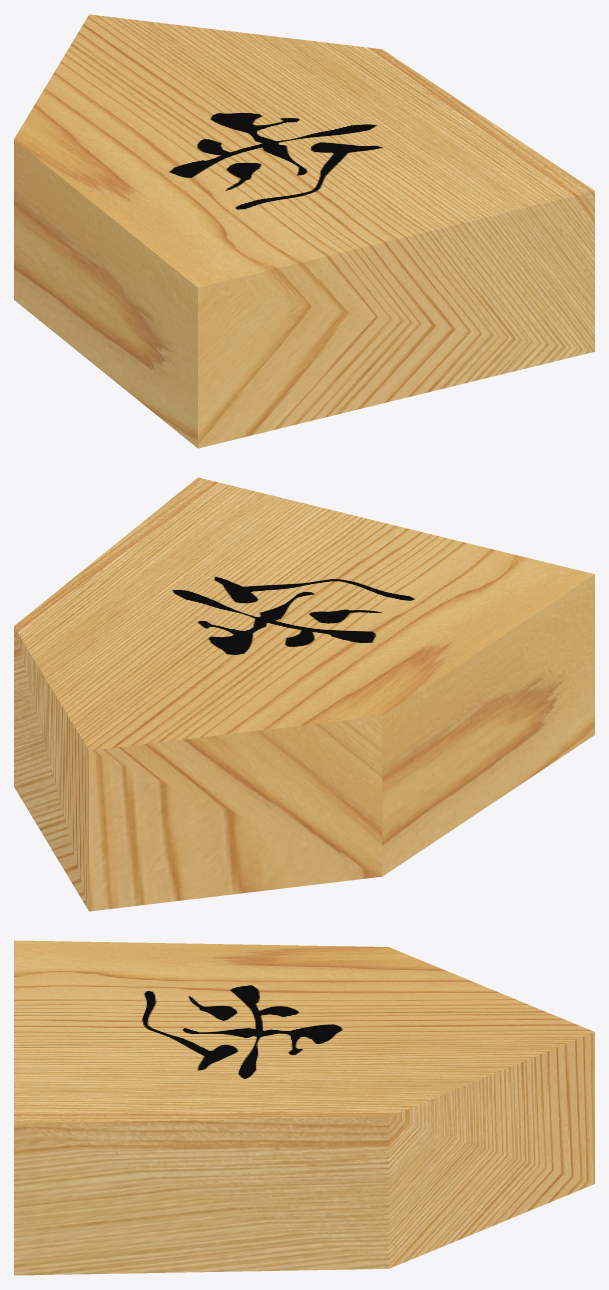
The model's file is koma_hu.gltf.
3 renders of one model, top to bottom at view 1: azimuth 30°, elevation 25°; view 2: azimuth 150°, elevation 25°; view 3: azimuth 270°, elevation 25°, orthographic. The views are drawn at different scales.
Parts seen in each view (by area): view 1: Cylinder; view 2: Cylinder; view 3: Cylinder.
Boxes of the visible parts, x1,y1,x2,y2 form: Cylinder: (14,14,594,448); Cylinder: (14,477,594,911); Cylinder: (14,940,594,1275).
Size of the model in its own units: 1.29 by 0.5 by 1.73.
1 material, 1 textured.
